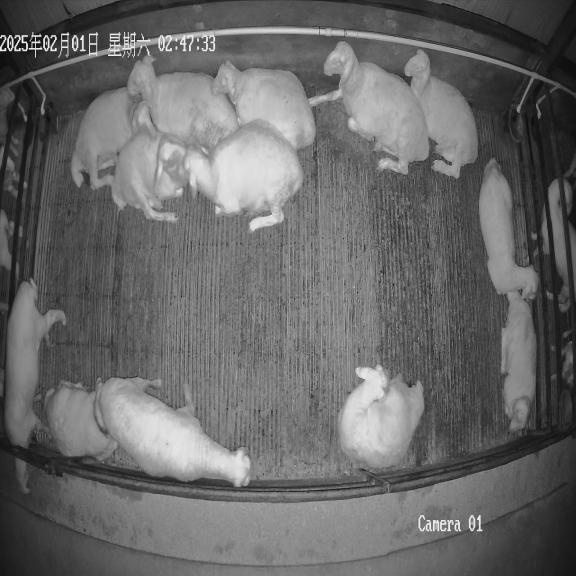eating: (4, 279, 66, 496)
lying: (309, 41, 429, 174), (184, 120, 304, 231), (127, 56, 239, 149), (404, 50, 478, 178), (213, 60, 316, 150), (337, 365, 424, 470), (71, 87, 154, 190), (479, 158, 538, 300), (111, 127, 186, 222), (44, 380, 118, 461), (500, 291, 536, 431)
stand: (95, 377, 251, 487)
